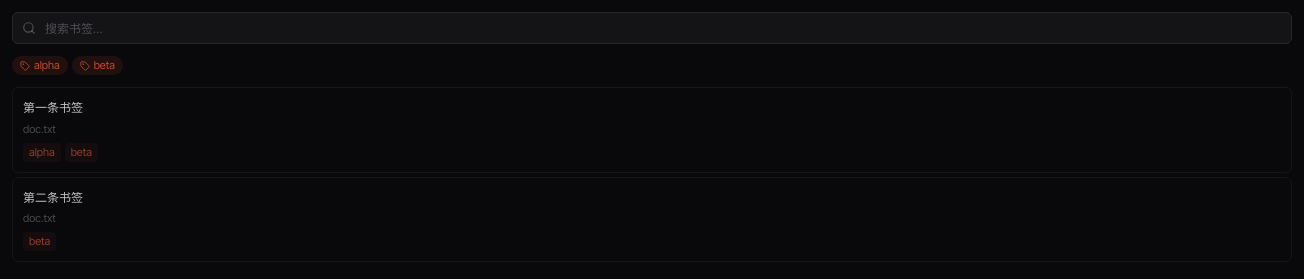
Test: BookmarkPanel › filters bookmarks by selected tag
Check: the text "第一条书签" is shown, box left=23, top=100, right=83, bottom=115
Click the button "alpha" at (40, 66), box left=12, top=56, right=68, bottom=75
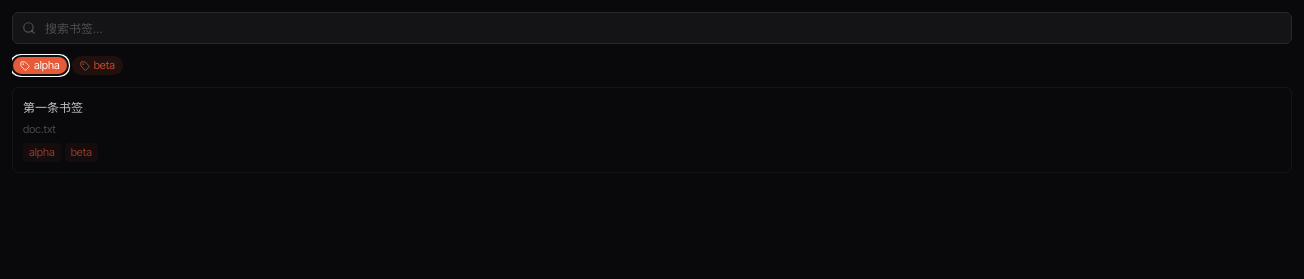
Check: the text "第一条书签" is shown, box left=23, top=100, right=83, bottom=115
Check: the button "第二条书签" is gone
